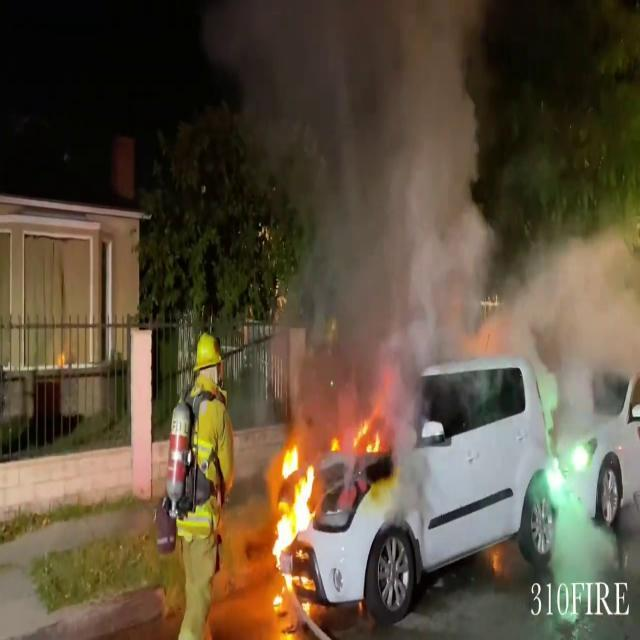Fire: (266, 436, 320, 576), (332, 410, 390, 466)
Smoke: (264, 0, 496, 410)
